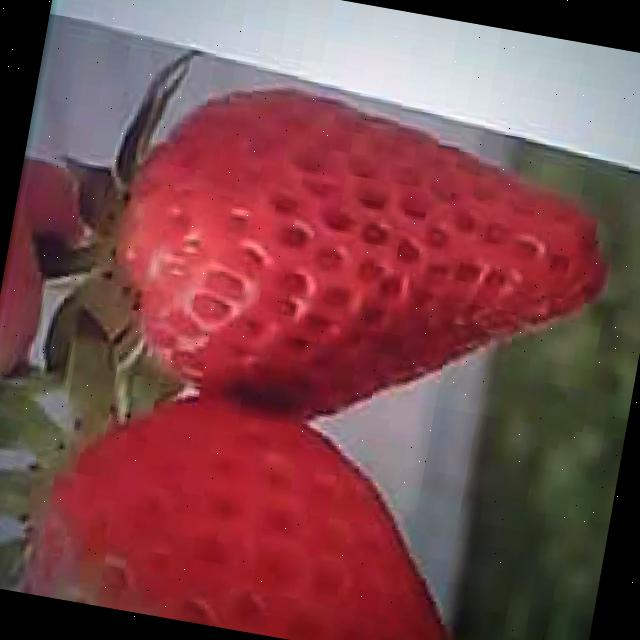strawberry: (89, 65, 625, 470), (16, 367, 487, 640)
